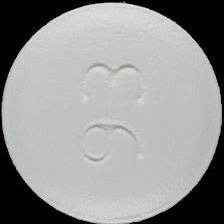42291-275: (0, 0, 224, 224)
